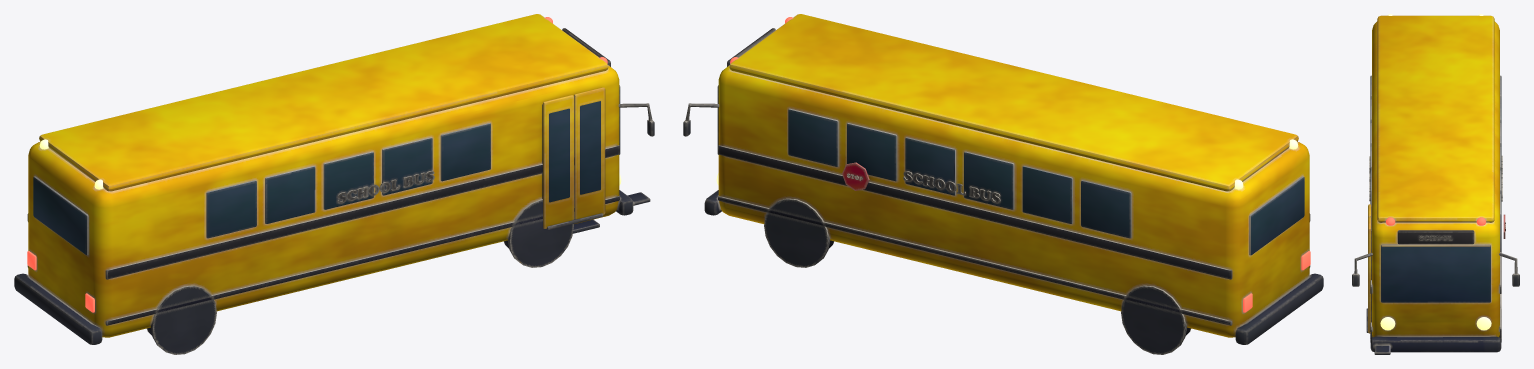
The model's file is bus_school.glb.
3 renders of one model, left to right at view 1: azimuth 30°, elevation 25°; view 2: azimuth 150°, elevation 25°; view 3: azimuth 270°, elevation 25°, orthographic. The views are drawn at different scales.
Parts seen in each view (by area): view 1: Body, Door, DoorWell; view 2: Body; view 3: Body, Door, DoorWell.
Part boxes in pixels (box(x1,y1,x2,y2)): Body: box(14, 14, 654, 354); Door: box(543, 87, 605, 228); DoorWell: box(542, 104, 603, 233); Body: box(683, 14, 1323, 354); Body: box(1352, 14, 1519, 354); Door: box(1368, 204, 1371, 333); DoorWell: box(1366, 206, 1372, 337).
Size of what is drawn, in the model's own units: 10.08 by 3.13 by 3.14.
Materials: 3 (1 with a texture image).
